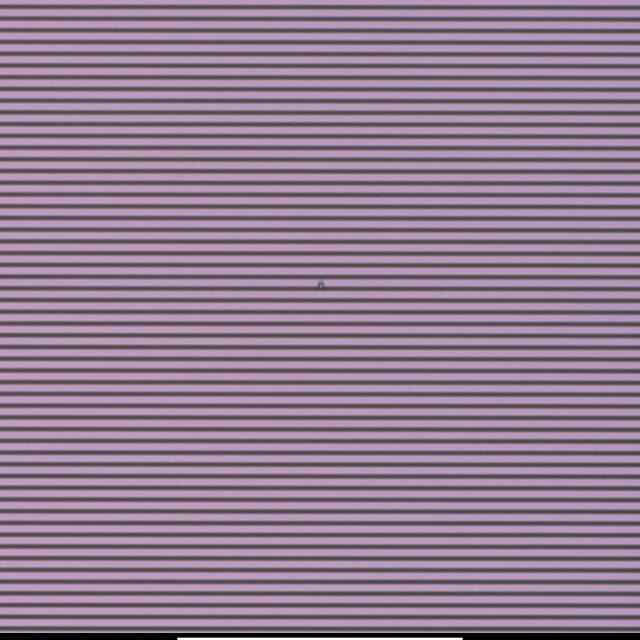03_intrusion: (316, 275, 328, 294)
